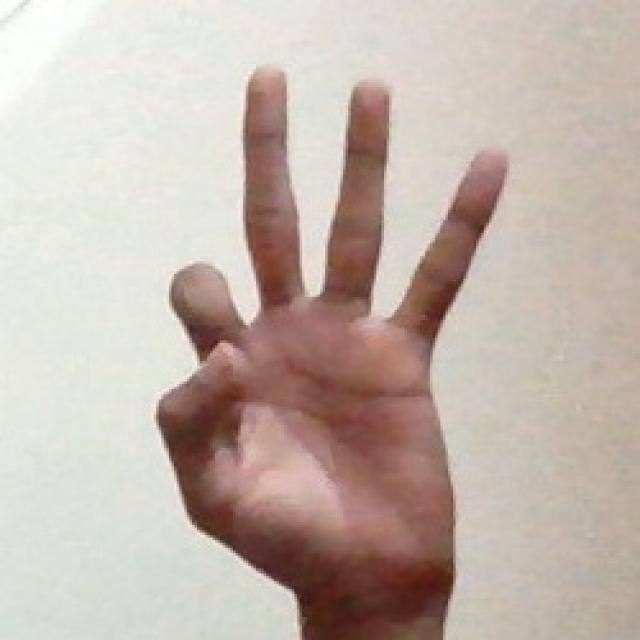Numeric-9: (151, 56, 507, 601)
